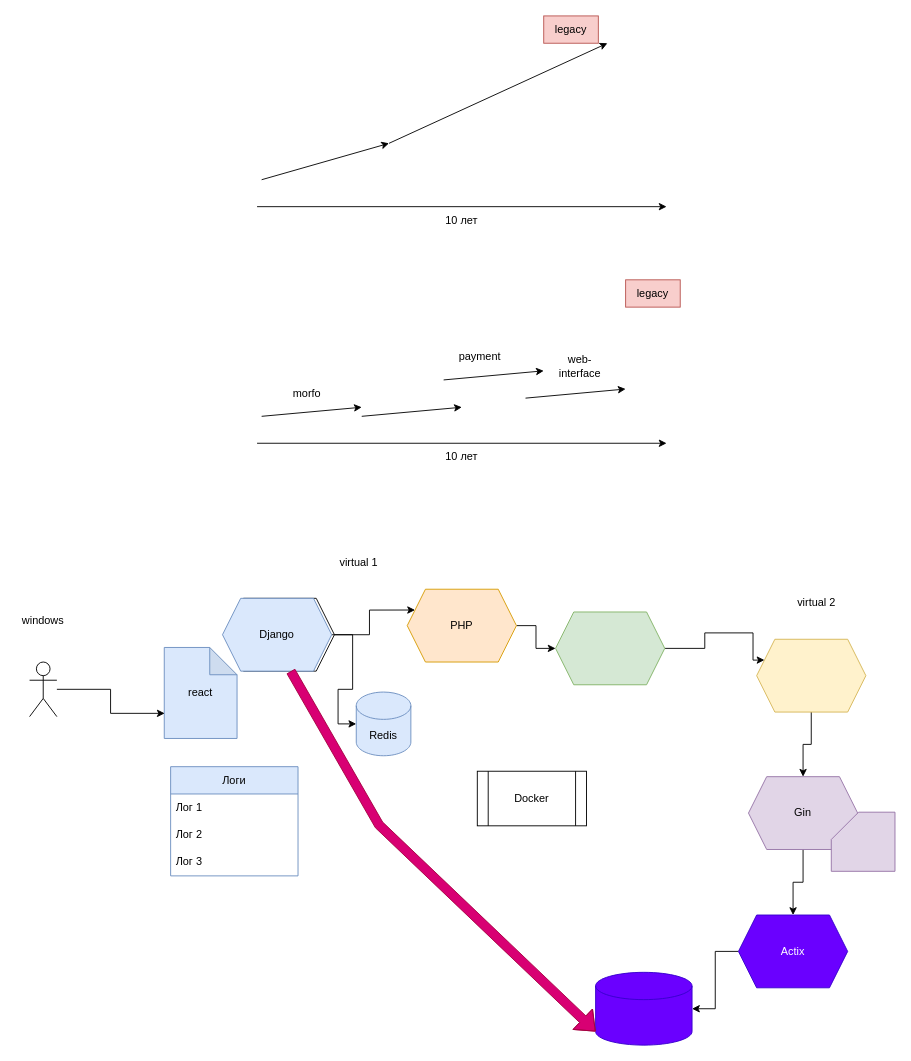
Some shapes in this 911 by 1061 pixel diagram are drawn without their labels. The box of each missing label's shape, as (x1, y1, x2, y2) in pixels:
Actor: (29, 661, 57, 717)
FastApi: (756, 638, 866, 712)
Flask: (555, 611, 665, 685)
PostgreSQL: (595, 971, 692, 1045)
TXT: (830, 811, 895, 871)
